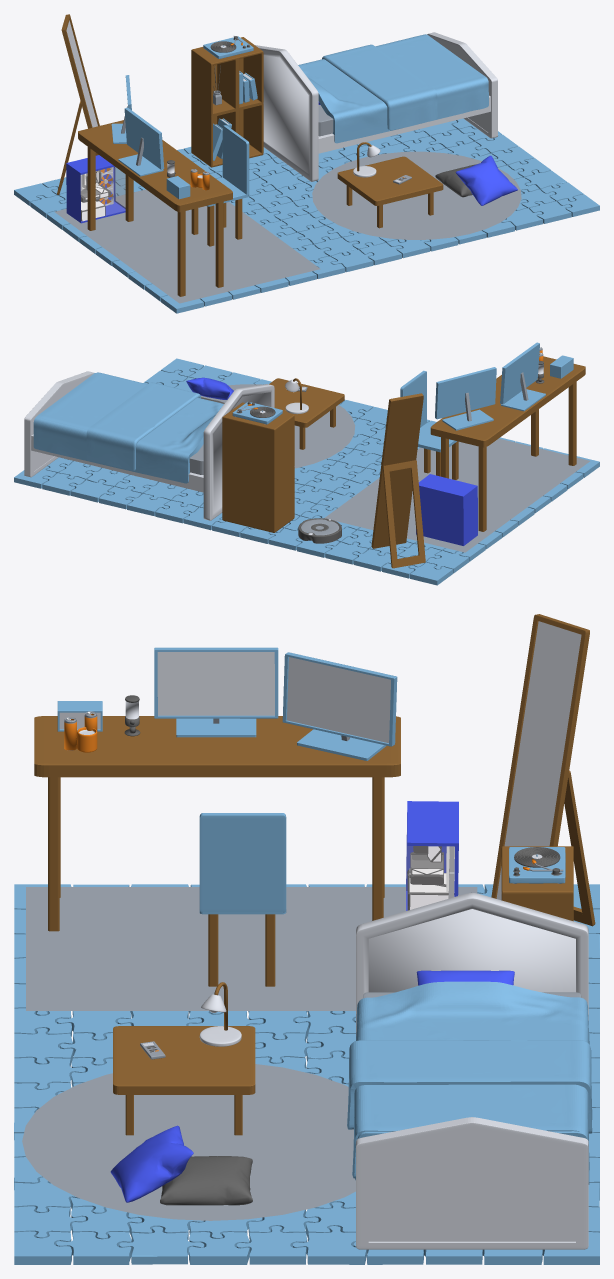
Rendered from Room-draco.glb.
3 renders of one model, top to bottom at view 1: azimuth 30°, elevation 25°; view 2: azimuth 150°, elevation 25°; view 3: azimuth 270°, elevation 25°, orthographic. The views are drawn at different scales.
Visible parts, largest first — view 1: pazzle, carpet2, carpet1, bed, bedOn, shelf, desk2, bedOff, desk, chiar, pc, monitor1 (+8 smaller); view 2: pazzle, carpet2, shelf, bedOn, mirror, bedOff, bed, desk2, pc, monitor2, carpet1, desk (+7 smaller); view 3: pazzle, bed, carpet2, carpet1, bedOn, desk2, mirror, bedOff, chiar, monitor1, desk, monitor2 (+8 smaller).
Boxes of the visible parts, bbox=[...] form: pazzle: bbox=[14, 118, 599, 313]; carpet2: bbox=[54, 189, 320, 303]; carpet1: bbox=[312, 151, 521, 239]; bed: bbox=[255, 32, 497, 181]; bedOn: bbox=[322, 34, 487, 131]; shelf: bbox=[191, 37, 263, 167]; desk2: bbox=[78, 120, 232, 296]; bedOff: bbox=[298, 34, 488, 143]; desk: bbox=[337, 156, 443, 228]; chiar: bbox=[191, 125, 249, 246]; pc: bbox=[66, 155, 125, 223]; monitor1: bbox=[118, 107, 164, 176]; pazzle: bbox=[14, 358, 599, 585]; carpet2: bbox=[324, 438, 589, 552]; shelf: bbox=[222, 402, 294, 532]; bedOn: bbox=[37, 372, 200, 470]; mirror: bbox=[371, 393, 425, 568]; bedOff: bbox=[33, 373, 223, 483]; bed: bbox=[24, 371, 274, 520]; desk2: bbox=[430, 356, 585, 531]; pc: bbox=[416, 474, 477, 545]; monitor2: bbox=[435, 367, 496, 430]; carpet1: bbox=[201, 384, 355, 468]; desk: bbox=[269, 378, 344, 449]; pazzle: bbox=[14, 884, 599, 1264]; bed: bbox=[356, 892, 588, 1249]; carpet2: bbox=[26, 887, 477, 1010]; carpet1: bbox=[22, 1064, 355, 1220]; bedOn: bbox=[347, 1039, 592, 1178]; desk2: bbox=[34, 716, 400, 931]; mirror: bbox=[491, 614, 595, 926]; bedOff: bbox=[355, 981, 589, 1184]; chiar: bbox=[199, 813, 286, 986]; monitor1: bbox=[154, 647, 278, 737]; desk: bbox=[113, 1026, 255, 1135]; monitor2: bbox=[282, 652, 397, 760].
Size of the model in its own units: 4.5 by 1.74 by 3.
